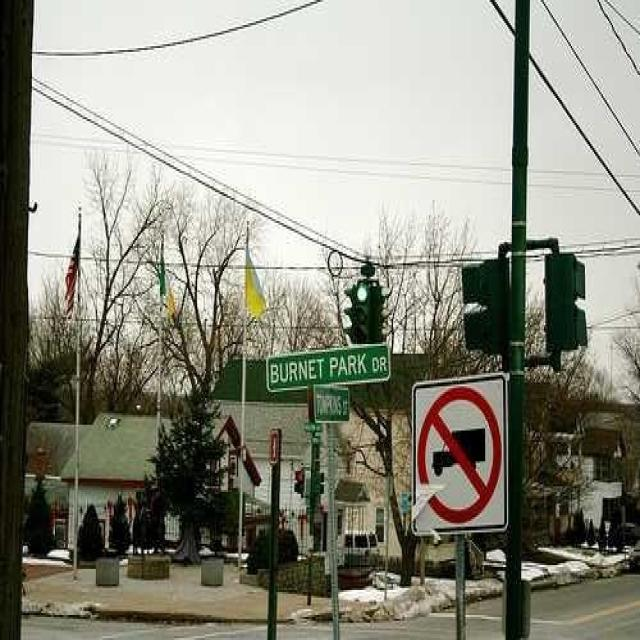Traffic Light -Green-: (351, 278, 376, 352)
